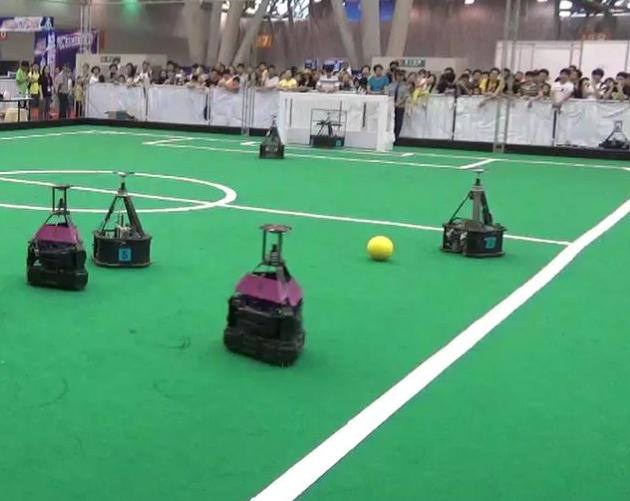robot: (219, 215, 320, 371), (23, 182, 91, 295), (440, 162, 511, 262), (91, 167, 157, 274), (258, 111, 288, 160)
